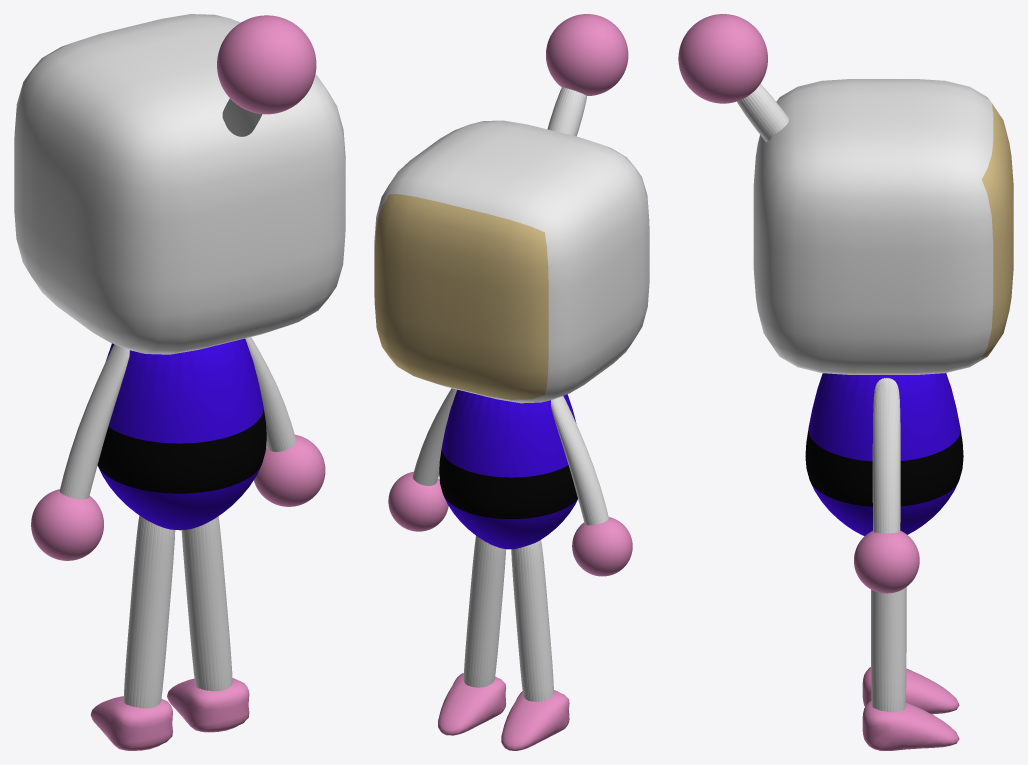
Rendered from bomberman.fbx.
3 renders of one model, left to right at view 1: azimuth 30°, elevation 25°; view 2: azimuth 150°, elevation 25°; view 3: azimuth 270°, elevation 25°, orthographic. The views are drawn at different scales.
Visible parts, largest first — view 1: Cylinder; view 2: Cylinder; view 3: Cylinder.
Boxes of the visible parts, <box> form: Cylinder: <box>14,14,345,750</box>; Cylinder: <box>374,14,649,750</box>; Cylinder: <box>678,14,1013,750</box>.
Bounding box in the file's own units: 2.74 × 7.2 × 3.08.
